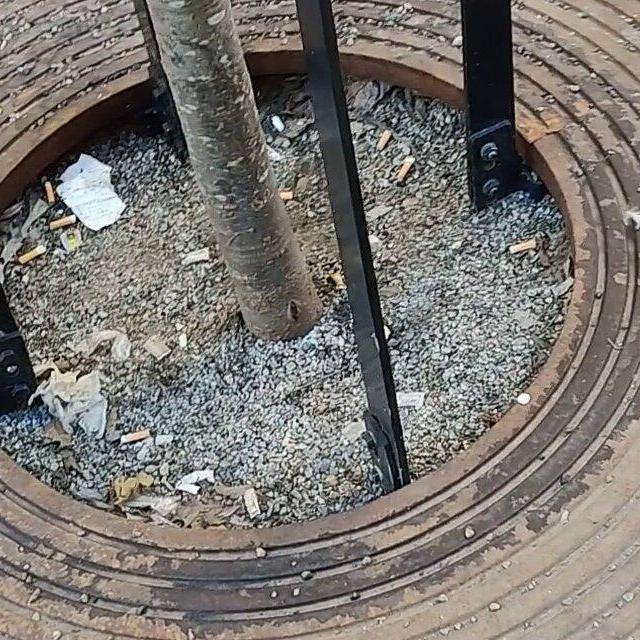Cigarette Butt: (118, 427, 153, 447), (392, 156, 411, 187), (19, 245, 45, 267), (509, 239, 535, 257), (375, 126, 396, 148), (51, 212, 76, 230), (43, 180, 57, 200), (274, 195, 293, 201)
